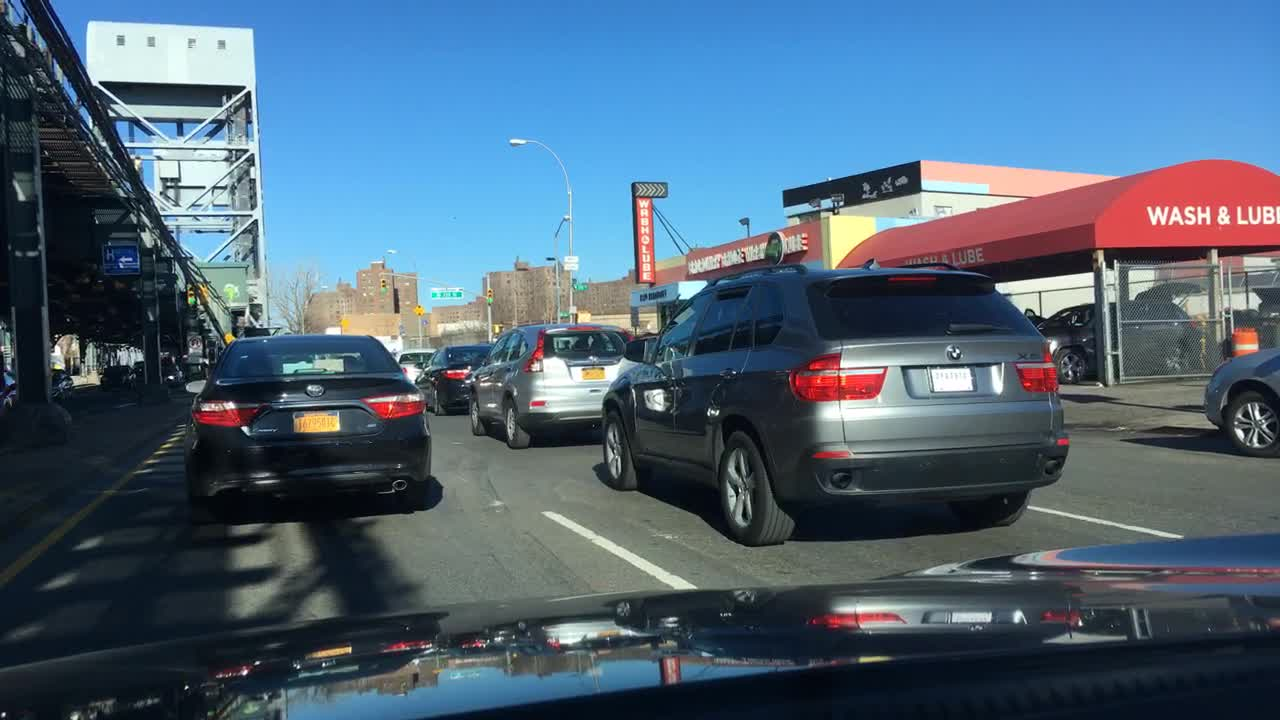car: (600, 270, 1070, 545), (183, 332, 432, 517), (467, 320, 635, 448), (1036, 294, 1210, 383), (1202, 346, 1277, 454), (415, 343, 492, 415), (394, 348, 436, 388), (1, 369, 22, 422), (98, 364, 137, 392), (156, 359, 182, 390), (51, 369, 72, 402)
traffic light: (185, 280, 197, 308), (486, 287, 495, 308), (379, 278, 386, 294)
traffic sign: (101, 243, 140, 277), (186, 331, 201, 354), (430, 287, 461, 298), (563, 254, 580, 271), (413, 303, 425, 317), (572, 282, 589, 291), (556, 310, 573, 319)
